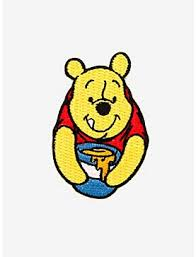Winnie: (56, 52, 146, 145)
